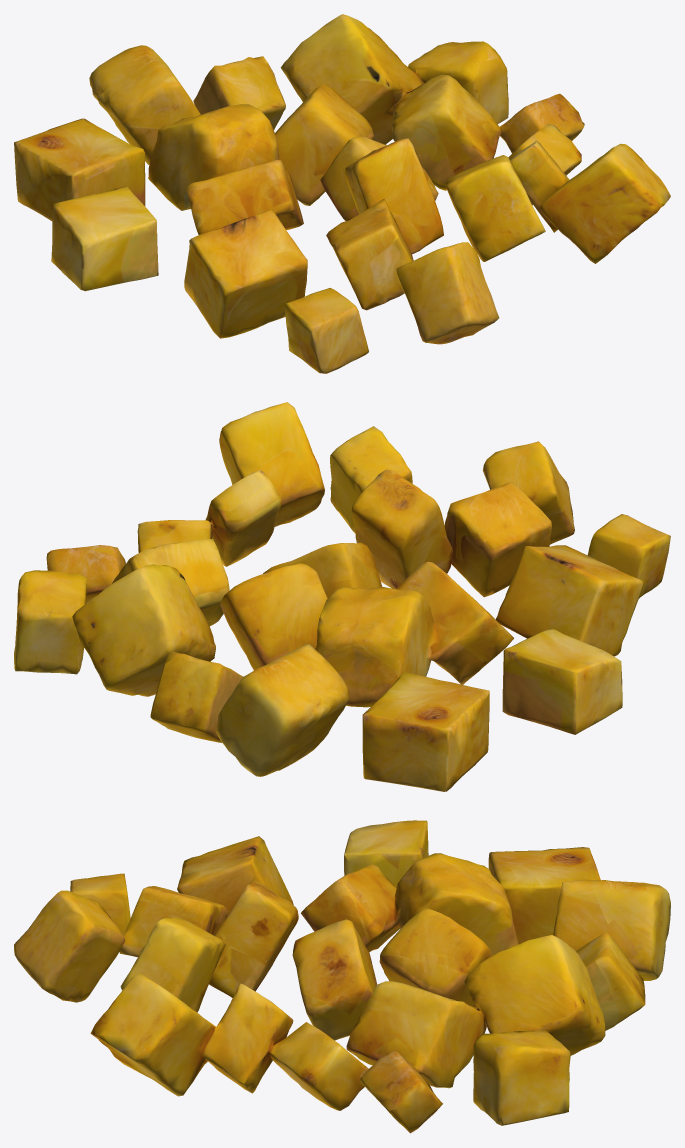
The model's file is Pineapple_chunks_0617115500_texture.glb.
The picture shows the model from 3 angles, top to bottom: view 1: azimuth 30°, elevation 25°; view 2: azimuth 150°, elevation 25°; view 3: azimuth 270°, elevation 25°; orthographic projection. The views are drawn at different scales.
Size of the model in its own units: 1.87 by 0.4831 by 2.
1 material, 1 textured.
